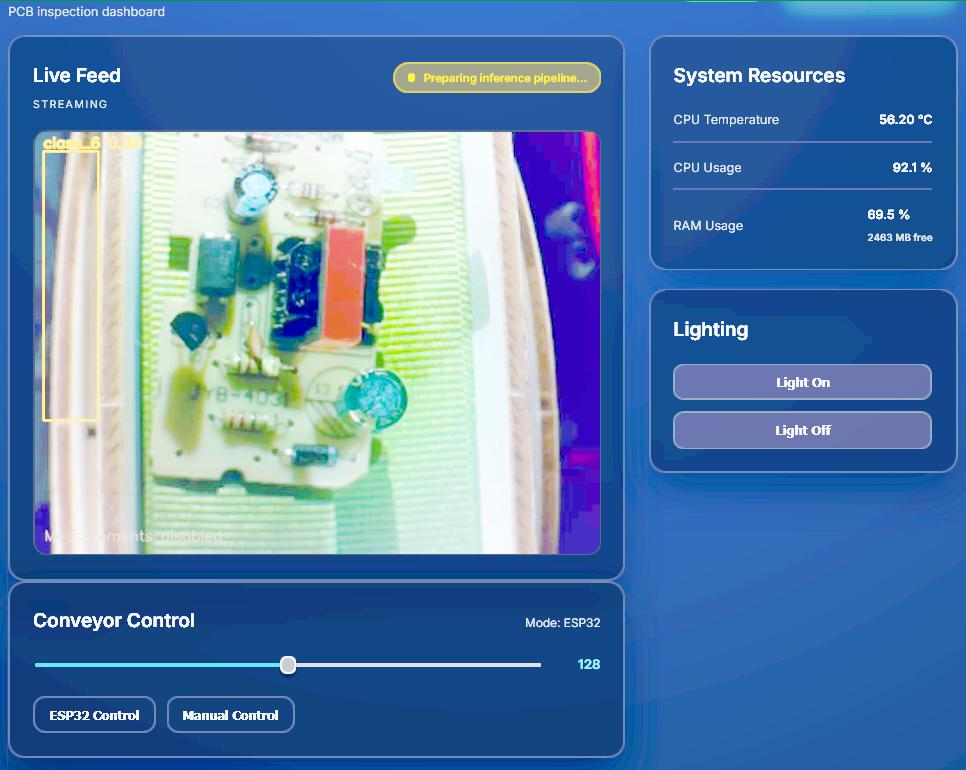IC: (184, 231, 246, 302)
capacitor: (332, 366, 409, 432), (232, 160, 282, 220)
ceramic_capacitor: (241, 323, 268, 361)
diode: (281, 440, 340, 466), (304, 208, 347, 228), (242, 132, 284, 150)
led: (350, 154, 419, 199)
resistor: (218, 409, 281, 433), (225, 353, 287, 377), (709, 114, 784, 131), (285, 181, 324, 199)
transistor: (170, 309, 212, 353)
